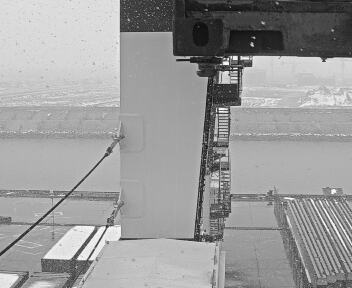twist_lock_1: (181, 50, 227, 85)
